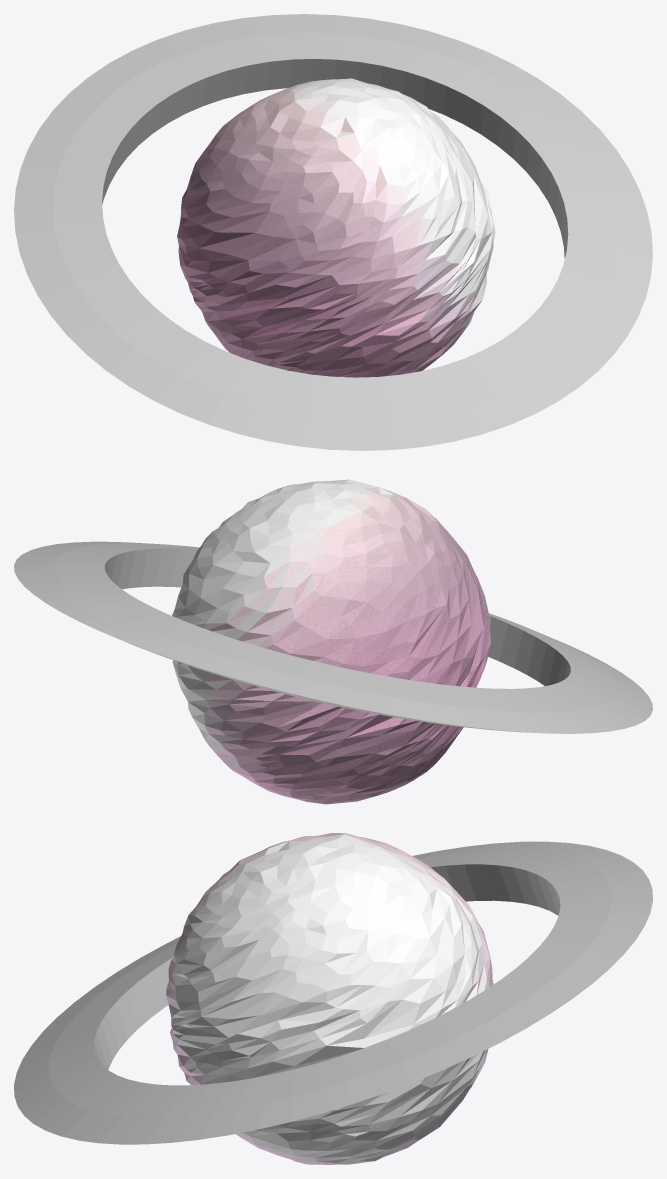
Rendered from ring烘焙.fbx.
3 views of the same model, one above another, from view 1: azimuth 30°, elevation 25°; view 2: azimuth 150°, elevation 25°; view 3: azimuth 270°, elevation 25° (orthographic). The views are drawn at different scales.
Parts seen in each view (by area): view 1: ring1; view 2: ring1; view 3: ring1.
Part boxes in pixels (x1,y1,x2,y2): ring1: (14,14,652,450); ring1: (14,479,652,804); ring1: (14,833,652,1164).
Bounding box in the file's own units: 398 × 198 × 380.
